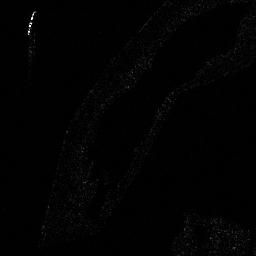ship: (27, 10, 35, 35)
